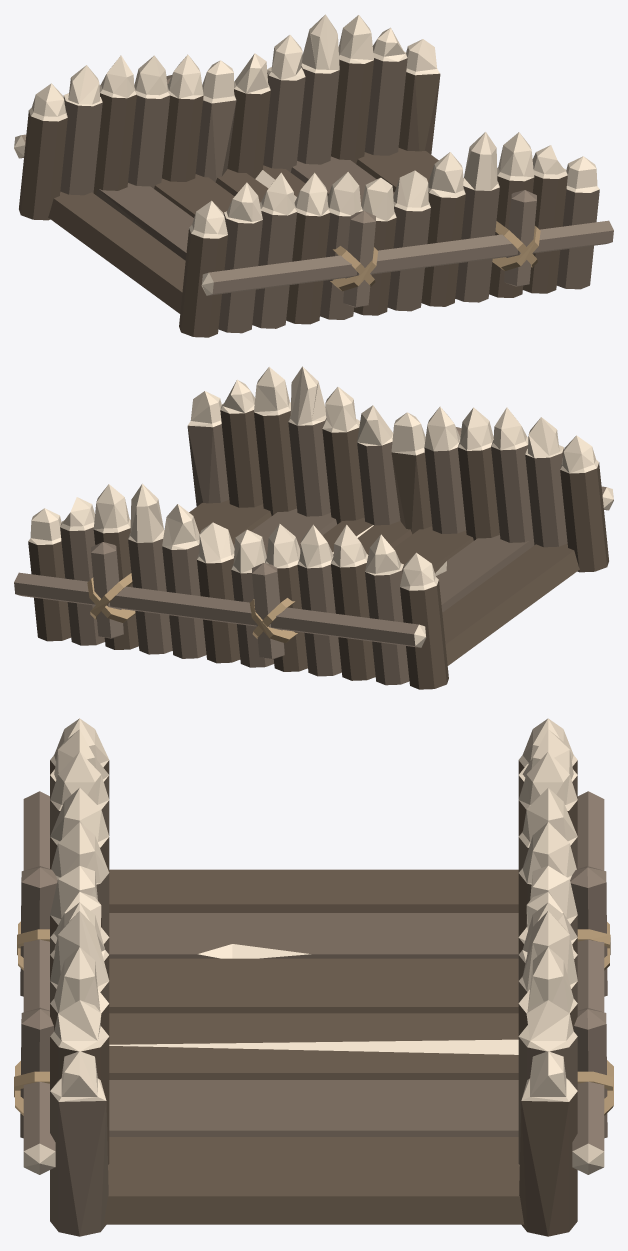
Rendered from _BRIDGE_MAIN_01.fbx.
3 views of the same model, one above another, from view 1: azimuth 30°, elevation 25°; view 2: azimuth 150°, elevation 25°; view 3: azimuth 270°, elevation 25° (orthographic). The views are drawn at different scales.
Parts seen in each view (by area): view 1: BRIDGE_MAIN_01; view 2: BRIDGE_MAIN_01; view 3: BRIDGE_MAIN_01.
Part boxes in pixels (bbox=[...]): BRIDGE_MAIN_01: bbox=[14, 14, 613, 337]; BRIDGE_MAIN_01: bbox=[14, 366, 613, 689]; BRIDGE_MAIN_01: bbox=[14, 718, 613, 1236].
Bounding box in the file's own units: 787 × 328 × 669.
